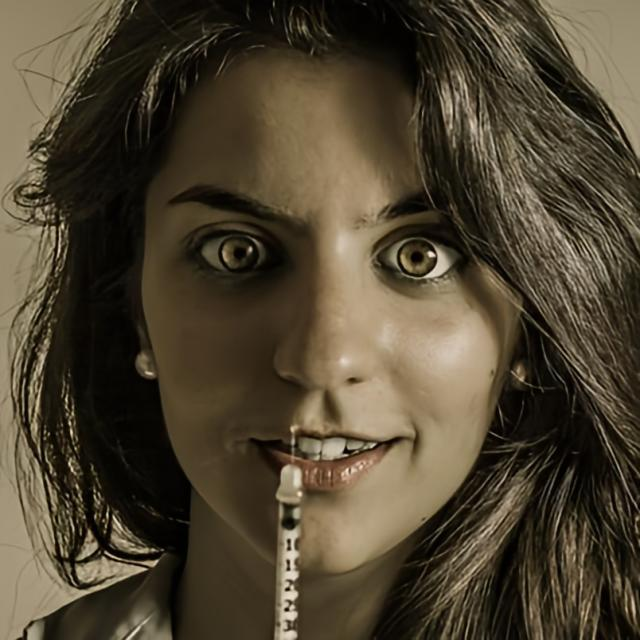surprise: (146, 61, 507, 573)
